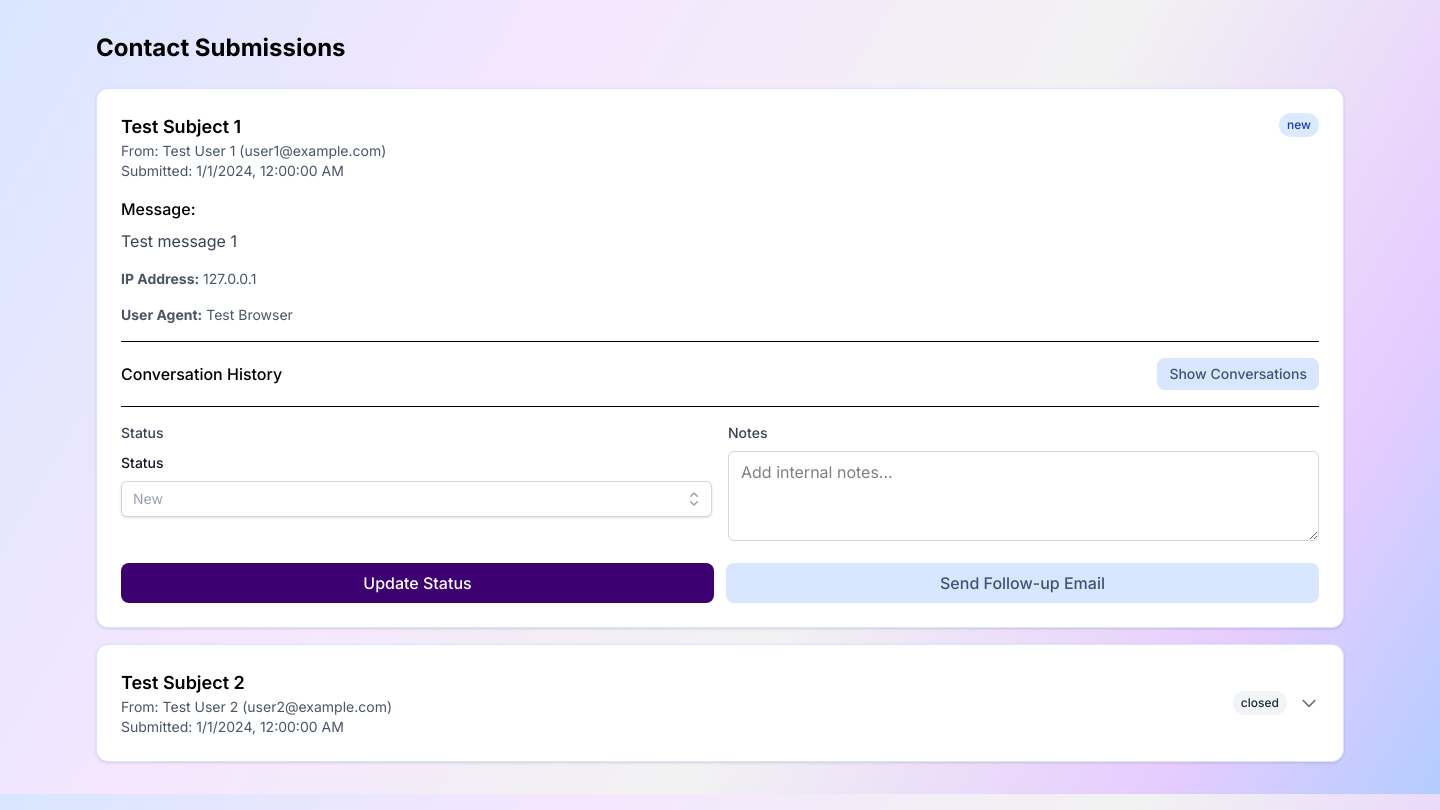
ContactSubmissionsClient › should open follow-up email modal
Click the button "Send Follow-up Email" at (1022, 583), box [726,563,1319,603]
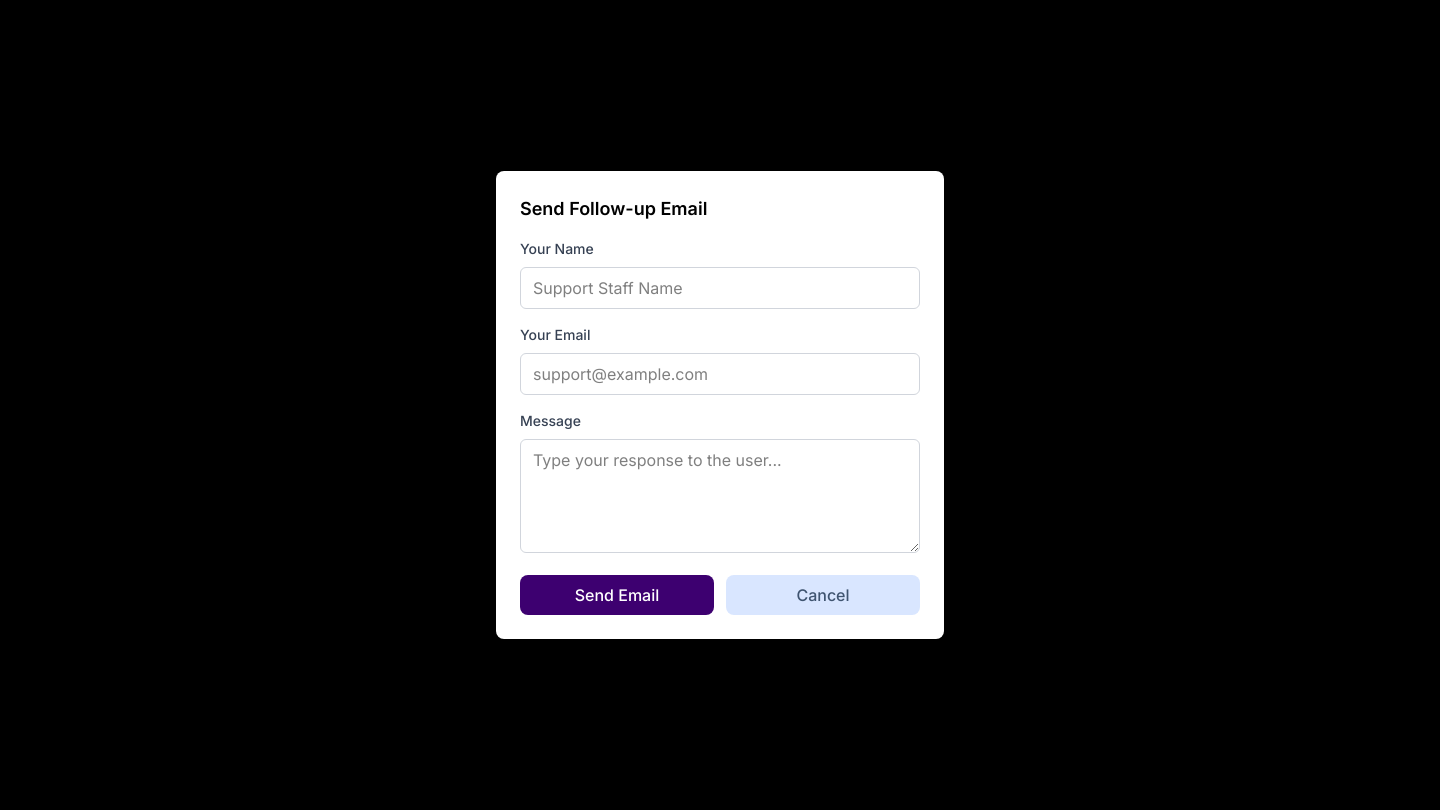
Result: the heading "Send Follow-up Email" is shown at [520,198,707,219]
Result: the text "Your Name" is shown at [520,240,594,257]
Result: the text "Your Email" is shown at [520,326,590,343]
